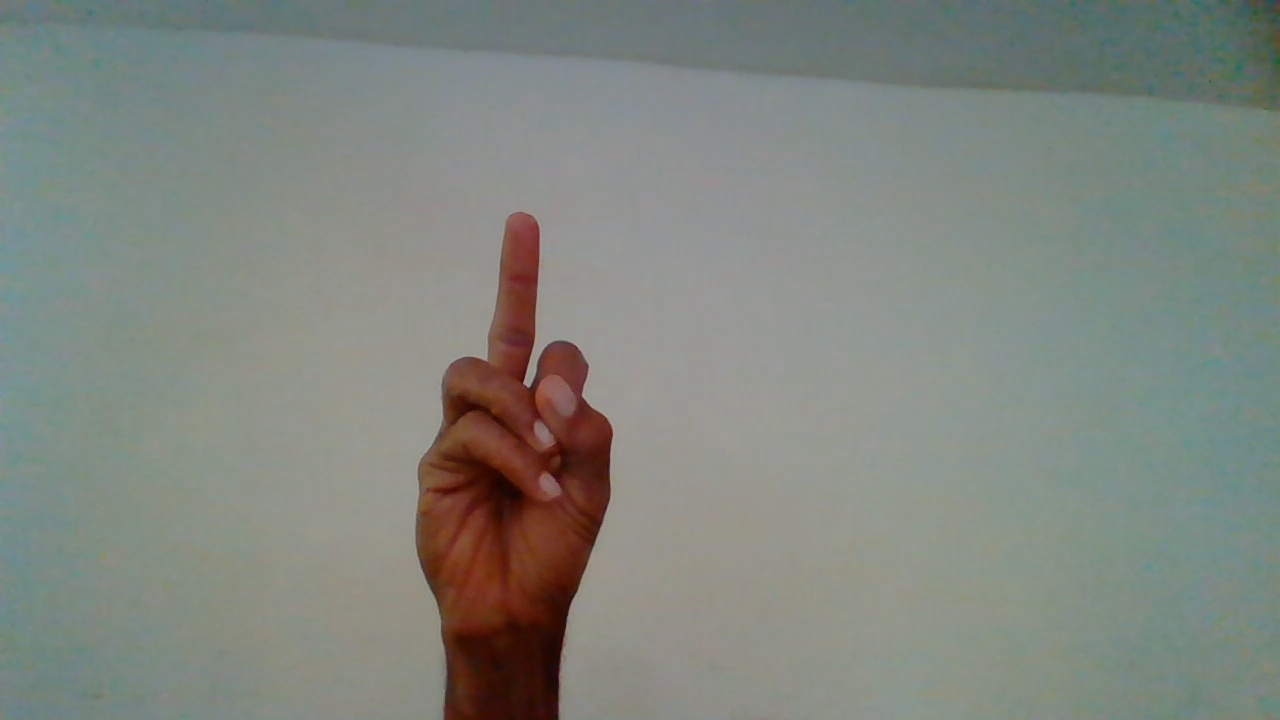he: (408, 214, 617, 720)
